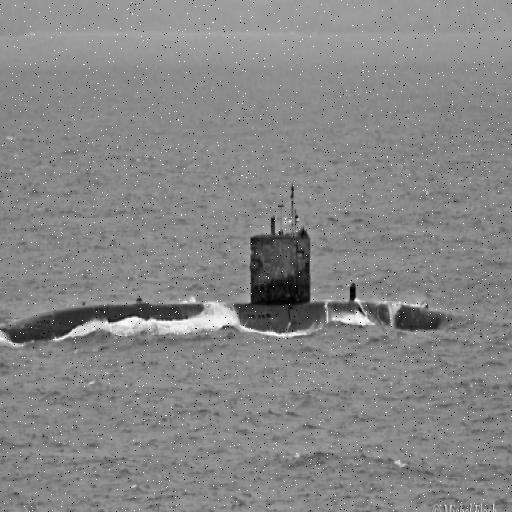submarine: (1, 226, 464, 334)
